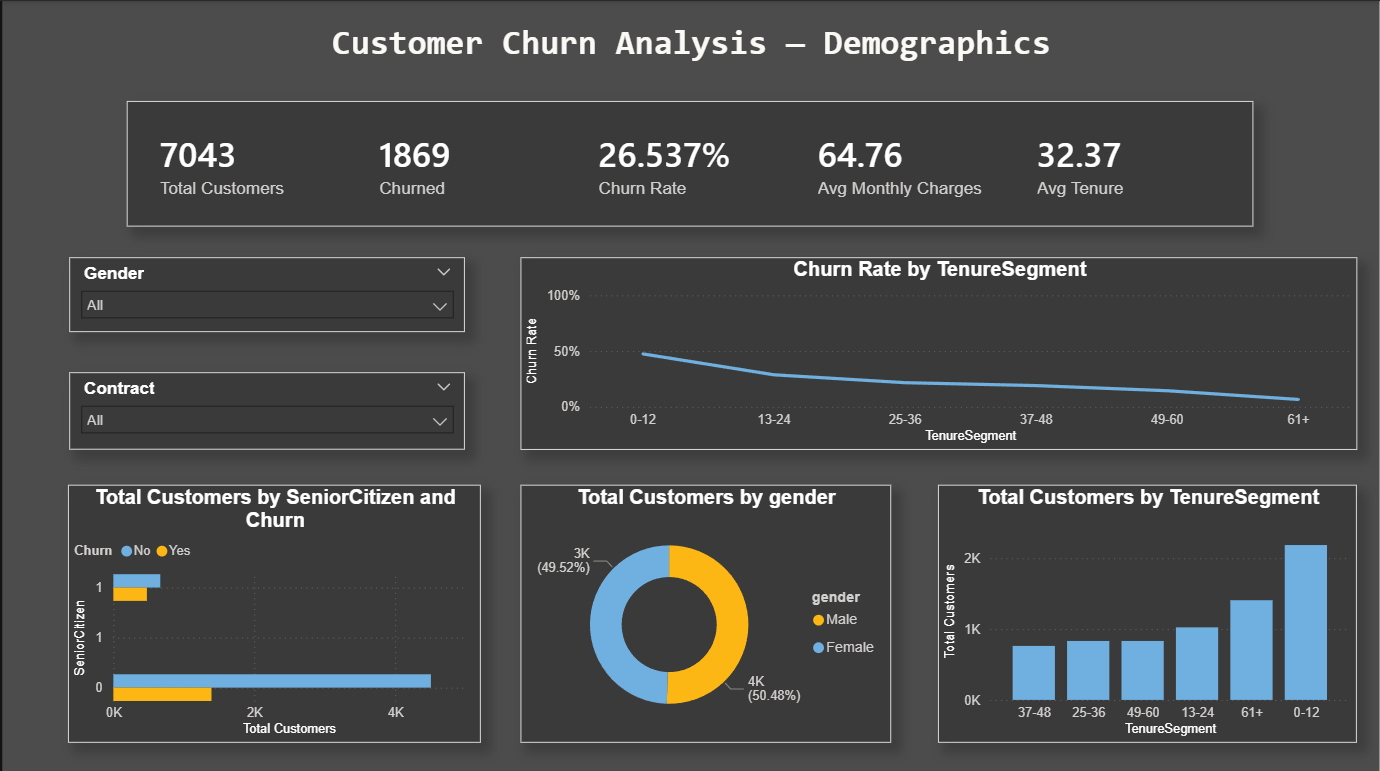

This screenshot's page, from the dashboard's own definition file:
{"tool":"powerbi","page":{"name":"Demographics","canvas":[1280,720],"ordinal":0},"visuals":[{"type":"cardVisual","fields":{"Data":["Measures (2).Total Customers","Measures (2).Churned","Measures (2).Churn Rate","Measures (2).Avg Monthly Charges","Measures (2).Avg Tenure"]},"box":[115.3,93.3,1048.4,116.6],"z":0},{"type":"donutChart","fields":{"Category":["churn_data.gender"],"Y":["Measures (2).Total Customers"]},"box":[481.6,450.1,344.4,240.1],"z":1000},{"type":"clusteredBarChart","fields":{"Category":["churn_data.SeniorCitizen"],"Y":["Measures (2).Total Customers"],"Series":["churn_data.Churn"]},"box":[60.4,450.1,384.2,240.1],"z":2000},{"type":"clusteredColumnChart","fields":{"Category":["churn_data.TenureSegment"],"Y":["Measures (2).Total Customers"]},"box":[870,450.1,389.7,240.1],"z":3000},{"type":"lineChart","fields":{"Category":["churn_data.TenureSegment"],"Y":["Measures (2).Churn Rate"]},"box":[481.4,238.8,778.7,179.1],"z":4000},{"type":"slicer","fields":{"Values":["churn_data.Contract"]},"box":[62.2,345.8,368.2,72.1],"z":5000},{"type":"slicer","fields":{"Values":["churn_data.gender"]},"box":[62.2,238.8,368.2,69.7],"z":6000},{"type":"textbox","box":[300.6,14.7,688.3,50.3],"z":6501}]}

Visuals, with their boxes in screenshot pixels (x1, y1, x2, y2), scaled from the page's 1280x720 canvas onto the 1380x771 screenshot:
cardVisual - Measures (2).Total Customers x Measures (2).Churned: 124, 100, 1255, 225
donutChart - churn_data.gender x Measures (2).Total Customers: 519, 482, 891, 739
clusteredBarChart - churn_data.SeniorCitizen x Measures (2).Total Customers: 65, 482, 479, 739
clusteredColumnChart - churn_data.TenureSegment x Measures (2).Total Customers: 938, 482, 1358, 739
lineChart - churn_data.TenureSegment x Measures (2).Churn Rate: 519, 256, 1359, 448
slicer - churn_data.Contract: 67, 370, 464, 448
slicer - churn_data.gender: 67, 256, 464, 330
textbox: 324, 16, 1066, 70
